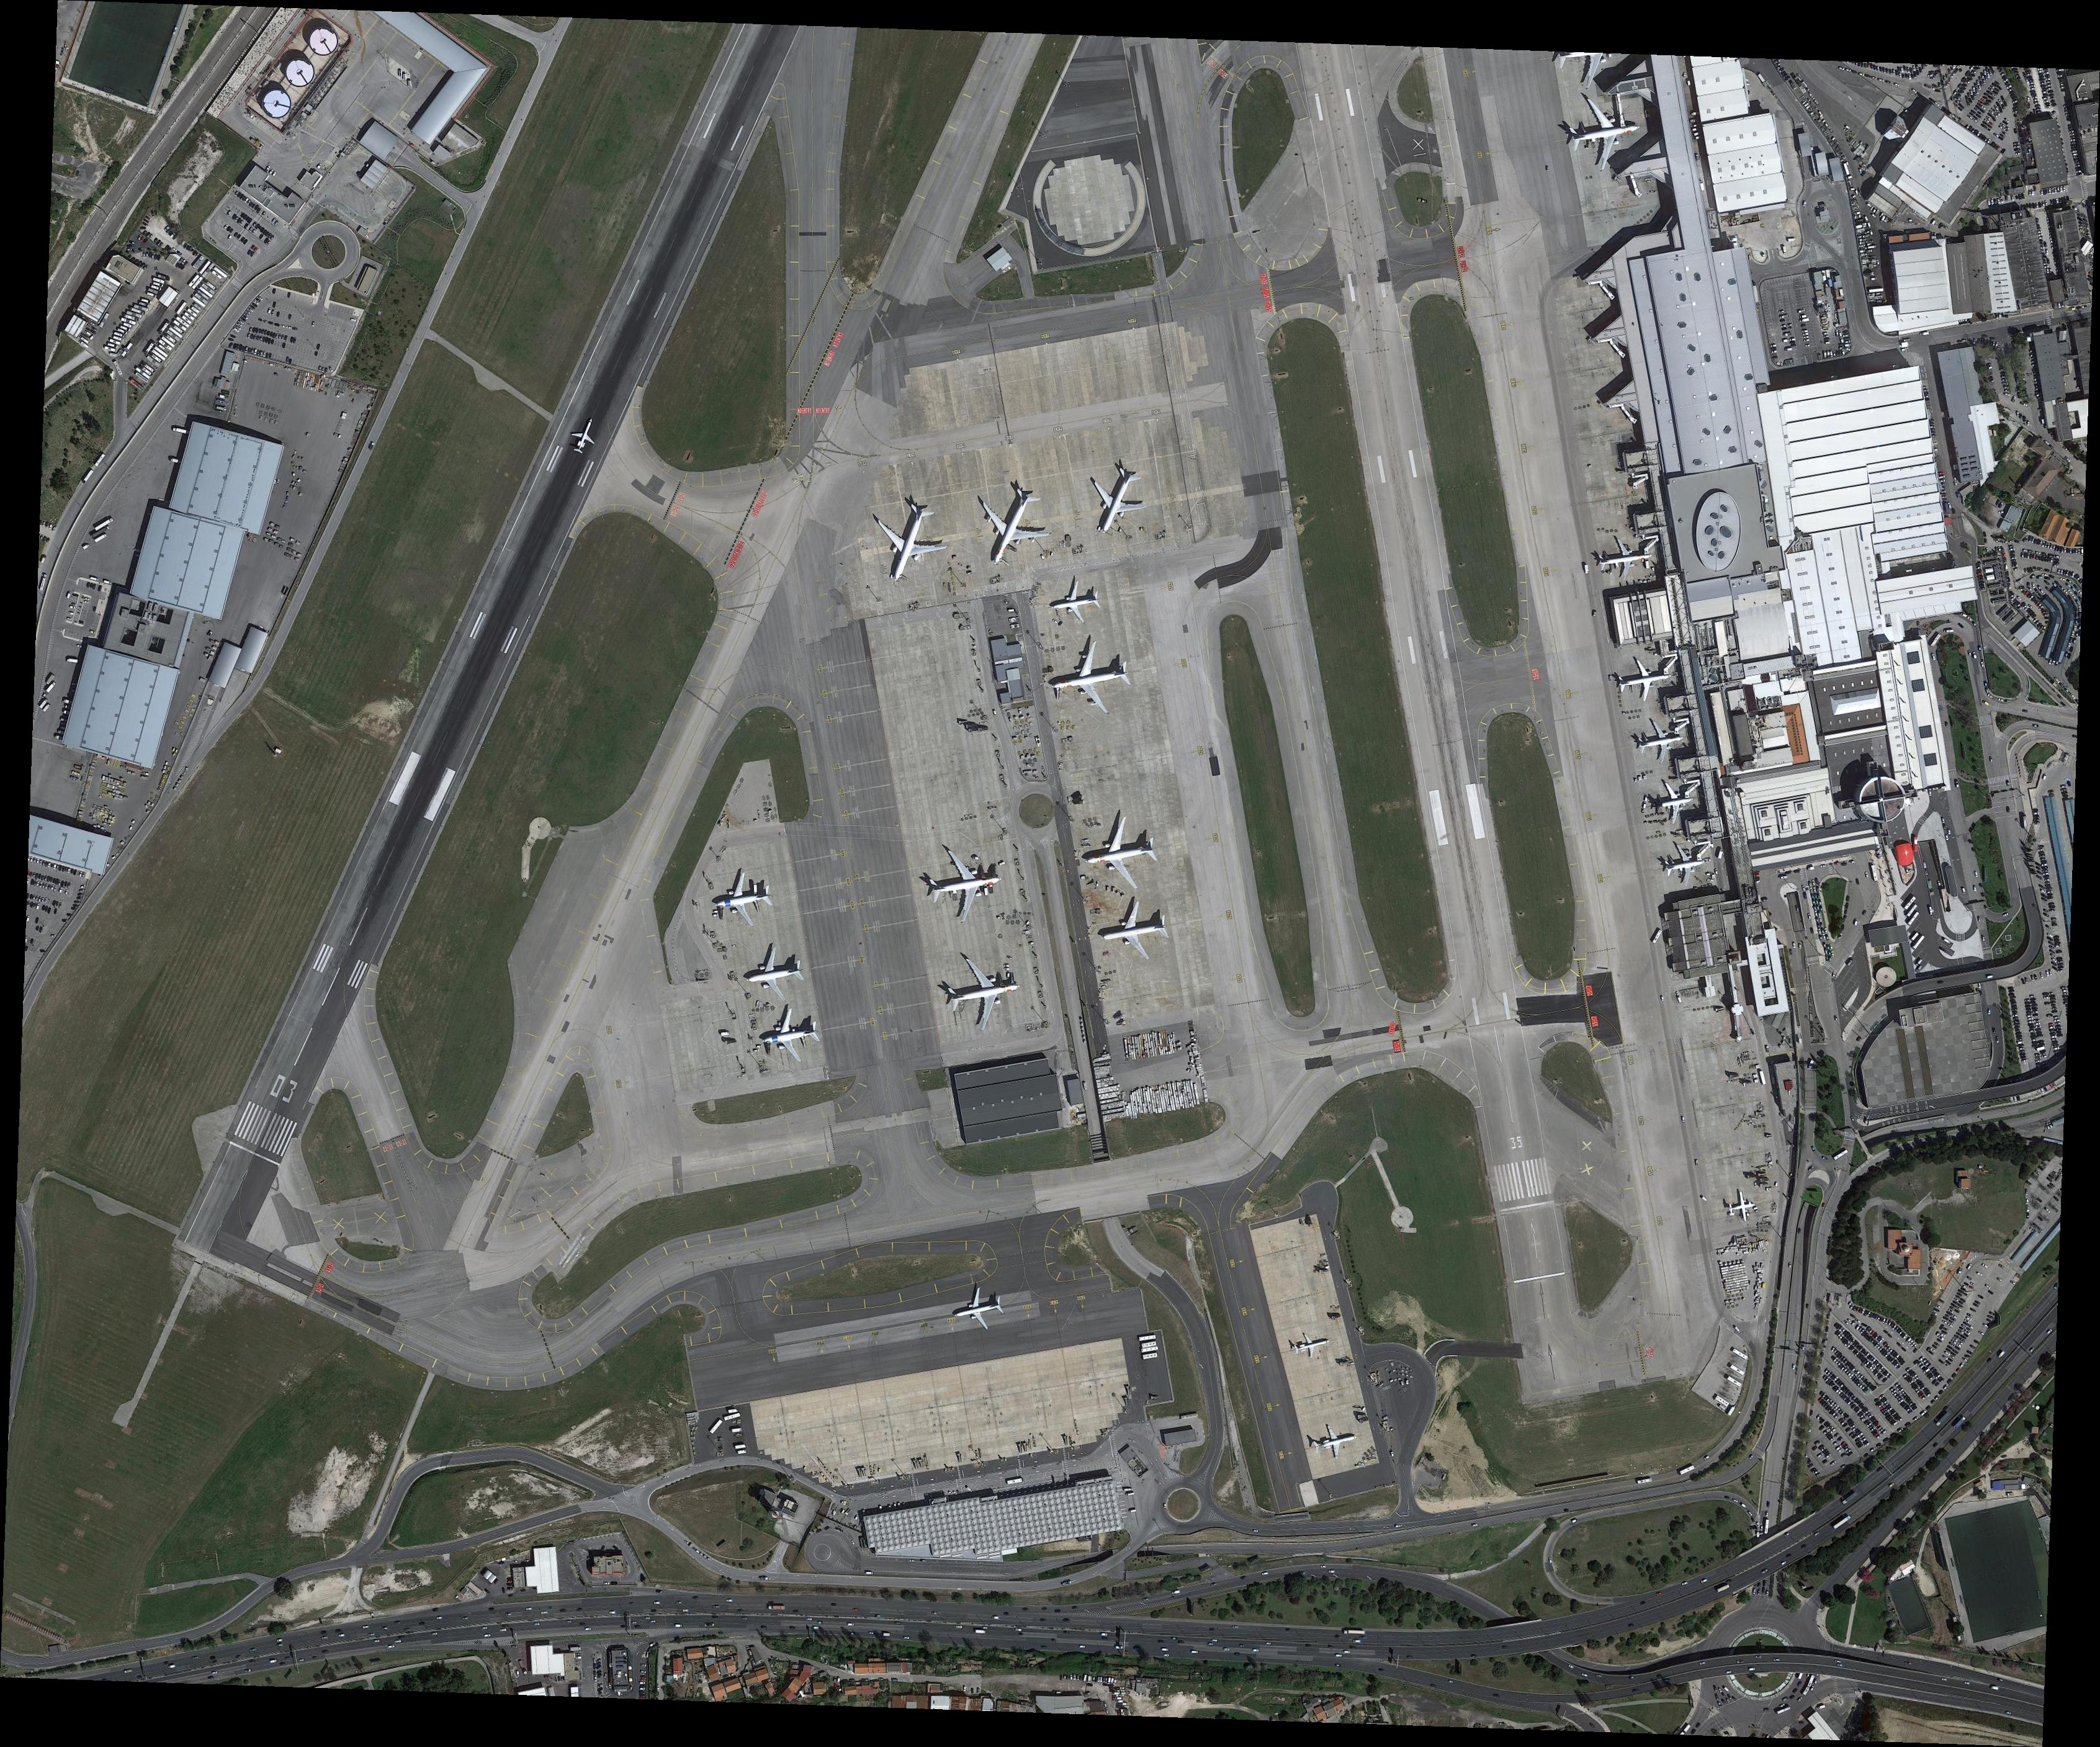plane: (956, 464, 1069, 579), (862, 490, 956, 591), (937, 945, 1026, 1039), (919, 840, 1008, 931), (1047, 638, 1139, 720), (1080, 452, 1160, 546), (1080, 809, 1163, 898), (1568, 87, 1645, 180), (1095, 891, 1177, 966), (706, 863, 776, 935), (755, 1001, 827, 1069), (741, 938, 809, 1006), (1612, 656, 1676, 706), (949, 1280, 1006, 1336), (1050, 577, 1104, 629), (1633, 715, 1685, 765), (1596, 532, 1652, 579), (1660, 840, 1709, 893), (1308, 1419, 1360, 1465), (1657, 778, 1697, 825), (565, 411, 603, 457), (1291, 1327, 1334, 1365), (1725, 1189, 1760, 1224)
